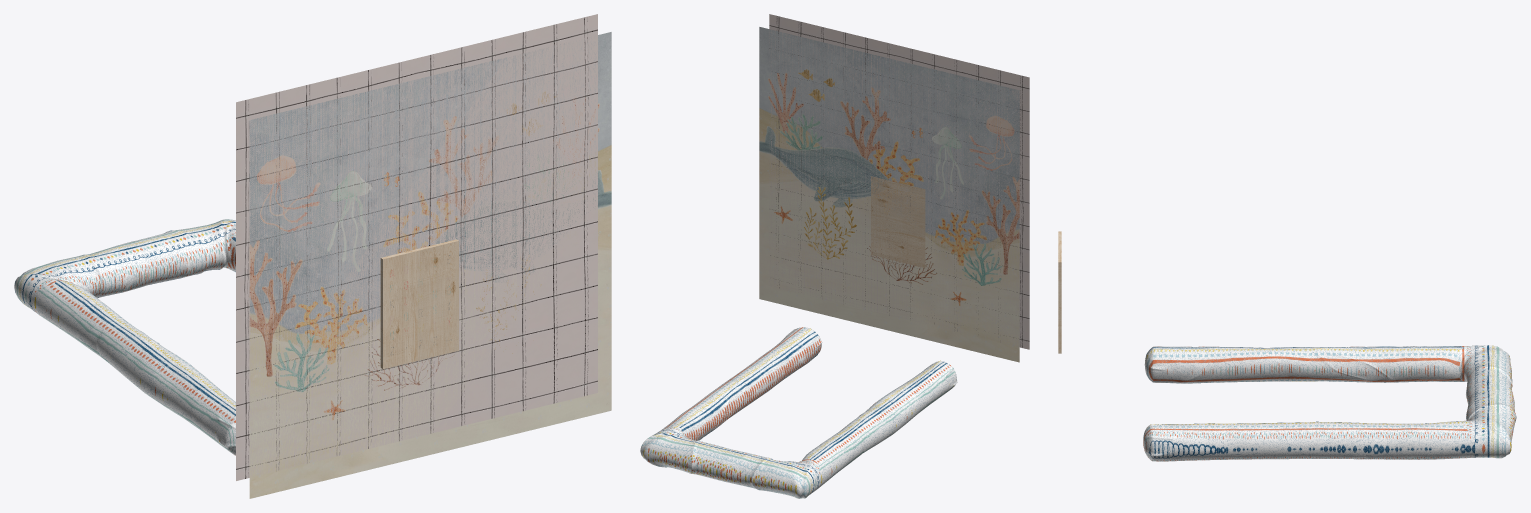
Rendered from Furniture-39.fbx.
3 views of the same model, side by side, from view 1: azimuth 30°, elevation 25°; view 2: azimuth 150°, elevation 25°; view 3: azimuth 270°, elevation 25° (orthographic). The views are drawn at different scales.
Parts seen in each view (by area): view 1: PAPEL_DE_PAREDE_CELULOSE_GRID_COM_FUNDO_ROSA1, MIMOO___PAINEL_FUNDO_DO_MAR1, Group2, Group3, Group5; view 2: MIMOO___PAINEL_FUNDO_DO_MAR1, PAPEL_DE_PAREDE_CELULOSE_GRID_COM_FUNDO_ROSA1, Group3, Group2, Group1, Group5; view 3: Group1, Group2, Group3.
Boxes of the visible parts, x1,y1,x2,y2 form: PAPEL_DE_PAREDE_CELULOSE_GRID_COM_FUNDO_ROSA1: (236, 14, 597, 480); MIMOO___PAINEL_FUNDO_DO_MAR1: (249, 32, 611, 498); Group2: (32, 280, 235, 455); Group3: (14, 219, 235, 315); Group5: (380, 239, 458, 369); MIMOO___PAINEL_FUNDO_DO_MAR1: (759, 27, 1019, 362); PAPEL_DE_PAREDE_CELULOSE_GRID_COM_FUNDO_ROSA1: (769, 14, 1029, 349); Group3: (640, 426, 820, 498); Group2: (802, 360, 957, 487); Group1: (662, 327, 822, 440); Group5: (871, 176, 925, 267); Group1: (1143, 421, 1475, 461); Group2: (1144, 346, 1465, 383); Group3: (1459, 345, 1516, 458).
Size of the model in its own units: 1.04 by 1.09 by 1.32.
